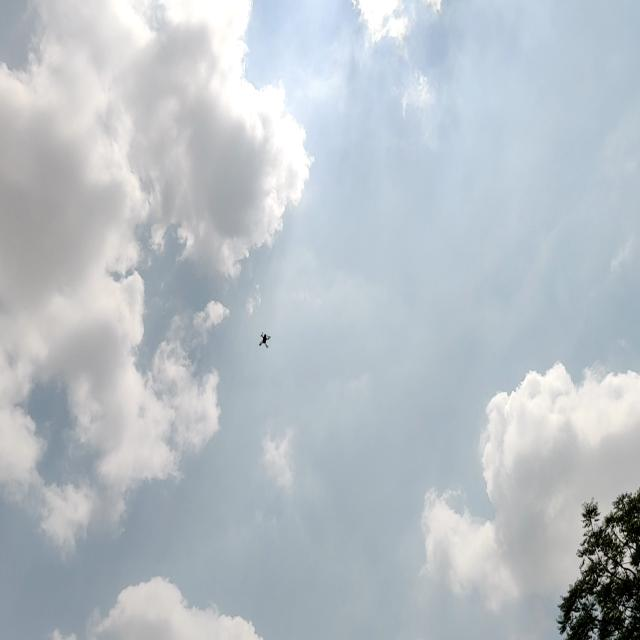drone: (254, 324, 275, 355)
